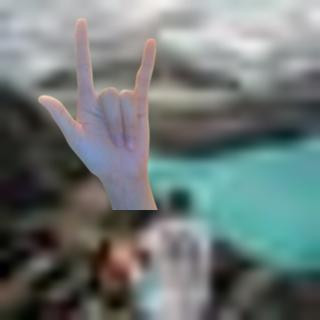ILY: (33, 13, 165, 186)
